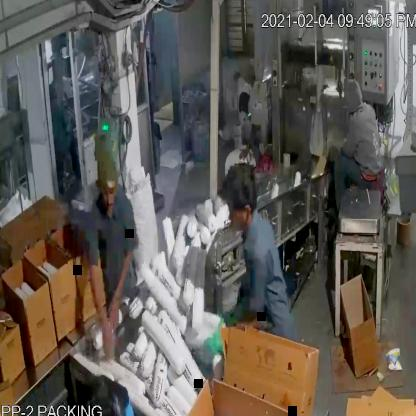glove: (197, 294, 253, 358)
no_glove: (88, 258, 121, 369), (104, 242, 138, 336)
